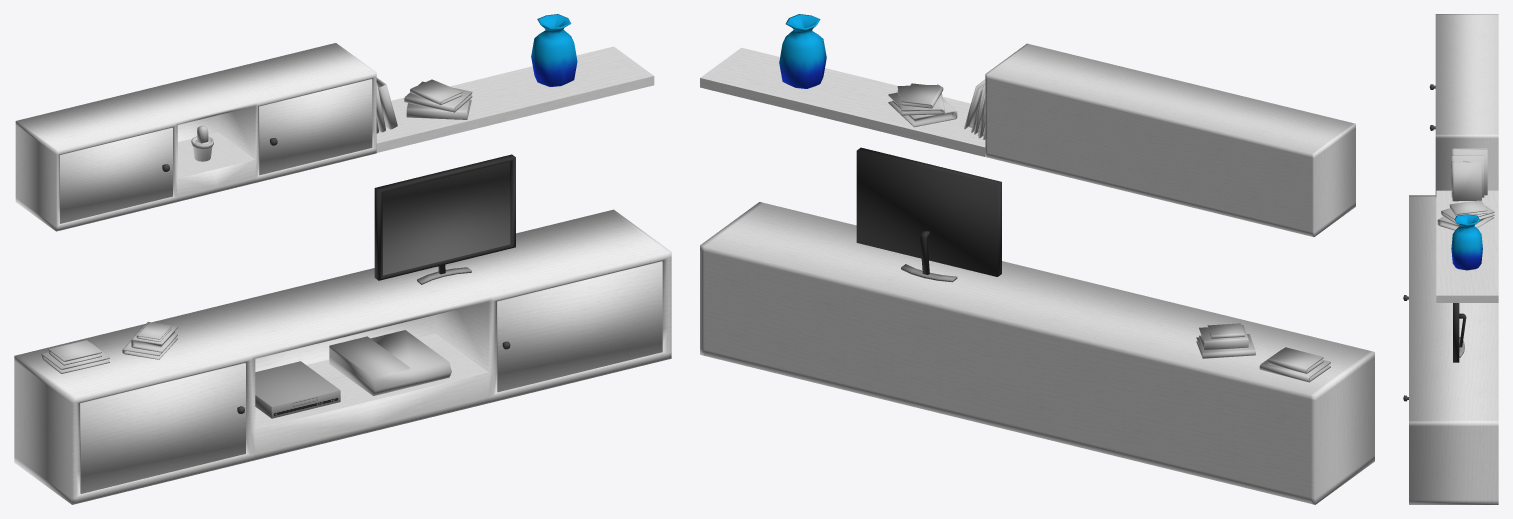
Rendered from Equipped_wall.fbx.
3 renders of one model, left to right at view 1: azimuth 30°, elevation 25°; view 2: azimuth 150°, elevation 25°; view 3: azimuth 270°, elevation 25°, orthographic. The views are drawn at different scales.
Visible parts, largest first — view 1: Equipped_wallbot, Equipped_Wallup, TV, PS5, DVDF, Blue_Vase, Books_1, Books_4, Books_3, Books_2; view 2: Equipped_wallbot, Equipped_Wallup, TV, Blue_Vase, Books_1, Books_3, Books_4, Books_2; view 3: Equipped_wallbot, Equipped_Wallup, Books_2, Blue_Vase, Books_1, TV.
Part boxes in pixels (left/top/right/bottom): Equipped_wallbot: left=14, top=209, right=671, bottom=504; Equipped_Wallup: left=15, top=43, right=654, bottom=231; TV: left=374, top=154, right=515, bottom=284; PS5: left=329, top=330, right=451, bottom=395; DVDF: left=255, top=361, right=340, bottom=418; Blue_Vase: left=531, top=14, right=577, bottom=86; Books_1: left=404, top=79, right=472, bottom=119; Books_4: left=41, top=340, right=109, bottom=373; Books_3: left=122, top=322, right=177, bottom=359; Books_2: left=376, top=78, right=397, bottom=133; Equipped_wallbot: left=700, top=202, right=1374, bottom=504; Equipped_Wallup: left=700, top=43, right=1355, bottom=236; TV: left=856, top=147, right=1001, bottom=282; Blue_Vase: left=779, top=14, right=826, bottom=88; Books_1: left=888, top=83, right=957, bottom=127; Books_3: left=1196, top=323, right=1255, bottom=358; Books_4: left=1259, top=347, right=1330, bottom=382; Books_2: left=964, top=79, right=985, bottom=139; Equipped_wallbot: left=1403, top=195, right=1498, bottom=504; Equipped_Wallup: left=1429, top=14, right=1498, bottom=302; Books_2: left=1451, top=148, right=1487, bottom=201; Blue_Vase: left=1451, top=214, right=1482, bottom=270; Books_1: left=1437, top=200, right=1494, bottom=230; TV: left=1453, top=303, right=1466, bottom=362.
Bounding box in the file's own units: 483 × 263 × 86.01.
